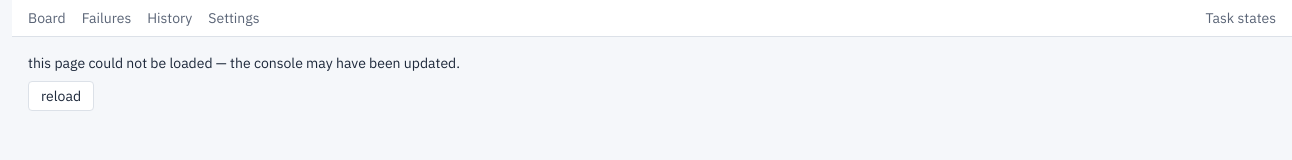
Test: recovers when the user navigates to another page via the shell
Expected: the message "this page could not be loaded — the console may have been updated. reload" is shown, [28,54,460,111]
Click the link "Board". click: (47, 18)
box: [28,8,66,28]
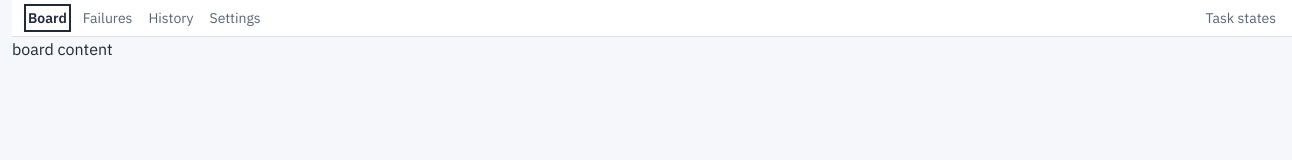
Now the text "board content" is shown, box [12,39,113,59]
Now the message "this page could not be loaded — the console may have been updated. reload" is gone
